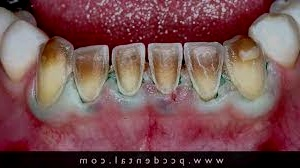Tooth Discoloration: (26, 30, 271, 117)
